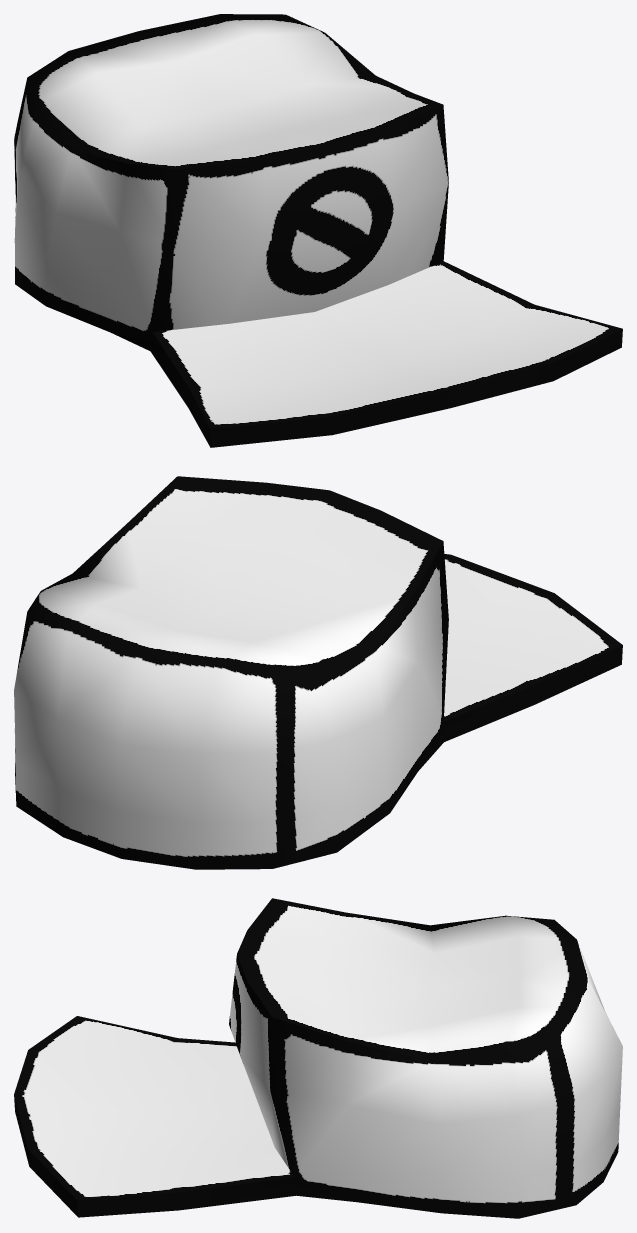
File: Cap.fbx
3 views of the same model, one above another, from view 1: azimuth 30°, elevation 25°; view 2: azimuth 150°, elevation 25°; view 3: azimuth 270°, elevation 25° (orthographic). The views are drawn at different scales.
Visible parts, largest first — view 1: Cap; view 2: Cap; view 3: Cap.
Part boxes in pixels (x1,y1,x2,y2): Cap: (14,14,622,447); Cap: (14,476,622,869); Cap: (14,898,622,1218).
Size of the model in its own units: 0.4339 by 0.2182 by 0.6057.
1 material, 1 textured.
